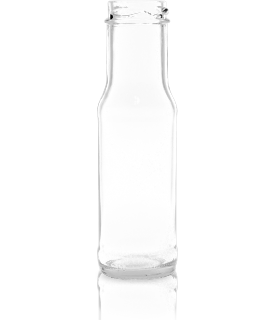glass_label: (89, 1, 189, 283)
